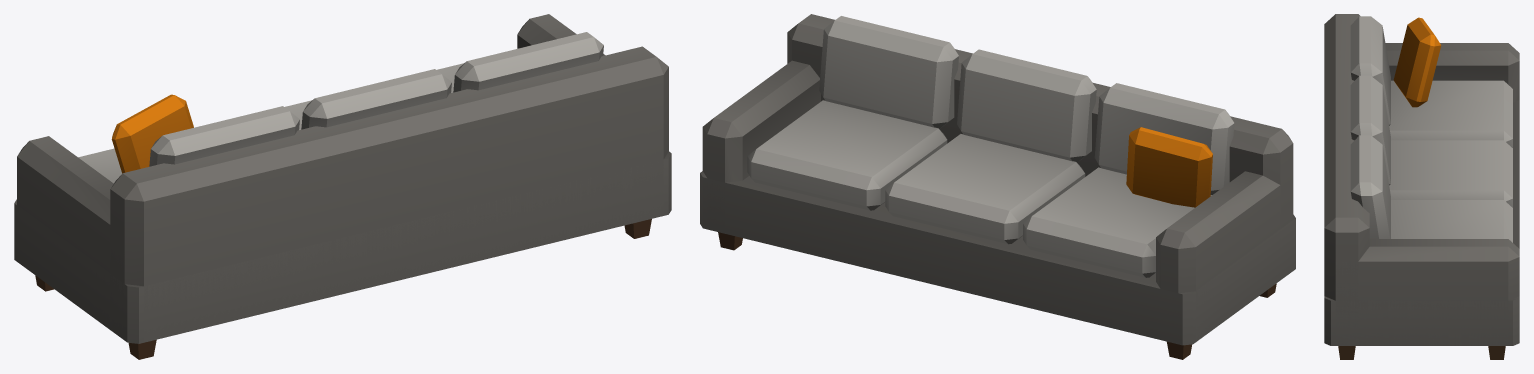
Rendered from sofa_3seat_01.glb.
3 renders of one model, left to right at view 1: azimuth 30°, elevation 25°; view 2: azimuth 150°, elevation 25°; view 3: azimuth 270°, elevation 25°, orthographic. The views are drawn at different scales.
Visible parts, largest first — view 1: sofa_3seat_01_mesh; view 2: sofa_3seat_01_mesh; view 3: sofa_3seat_01_mesh.
Boxes of the visible parts, <box> form: sofa_3seat_01_mesh: <box>14,14,671,359</box>; sofa_3seat_01_mesh: <box>700,14,1295,359</box>; sofa_3seat_01_mesh: <box>1324,14,1519,359</box>.
Bounding box in the file's own units: 2.22 × 0.7846 × 0.86.
Materials: 1 (1 with a texture image).
